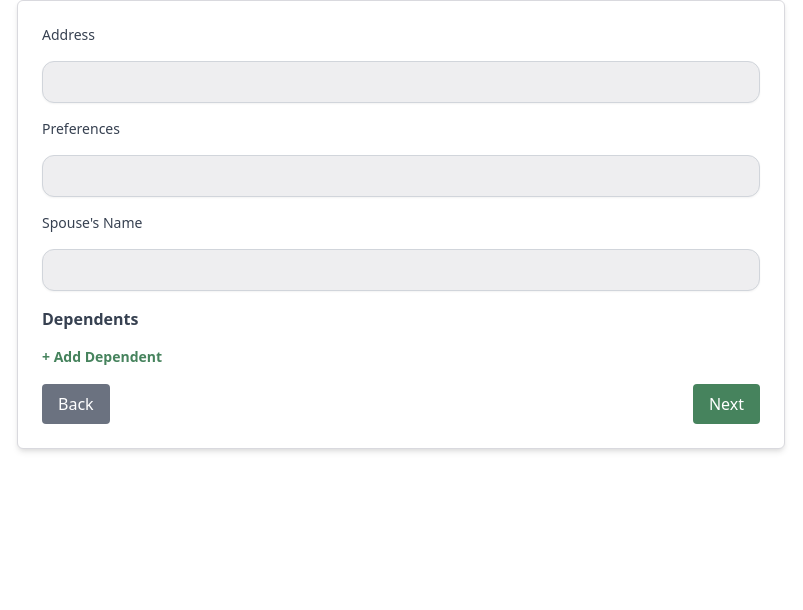
Scenario: Step2 Component › adds and removes dependent fields
Click the button "+ Add Dependent" at x=102, y=357, box [42,347,162,367]
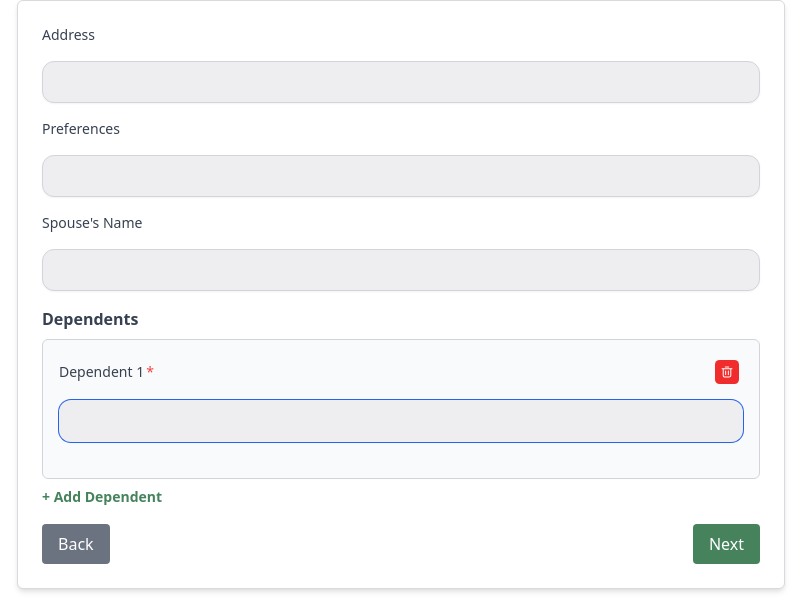
Check: the text "Dependent 1" is shown, box [59,362,144,381]
Click the button named "Remove dependent 1" at x=727, y=372, box [711,356,743,388]
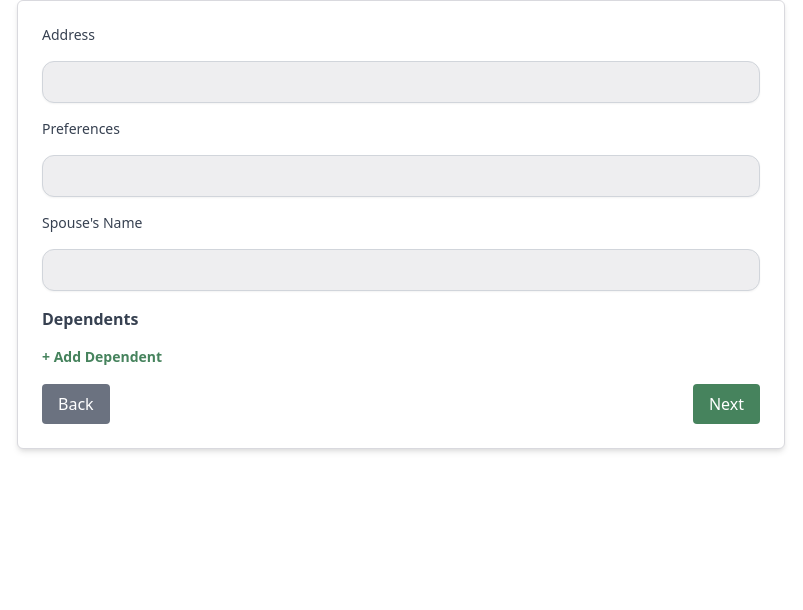
Check: the text labelled "Dependent 1" is gone
